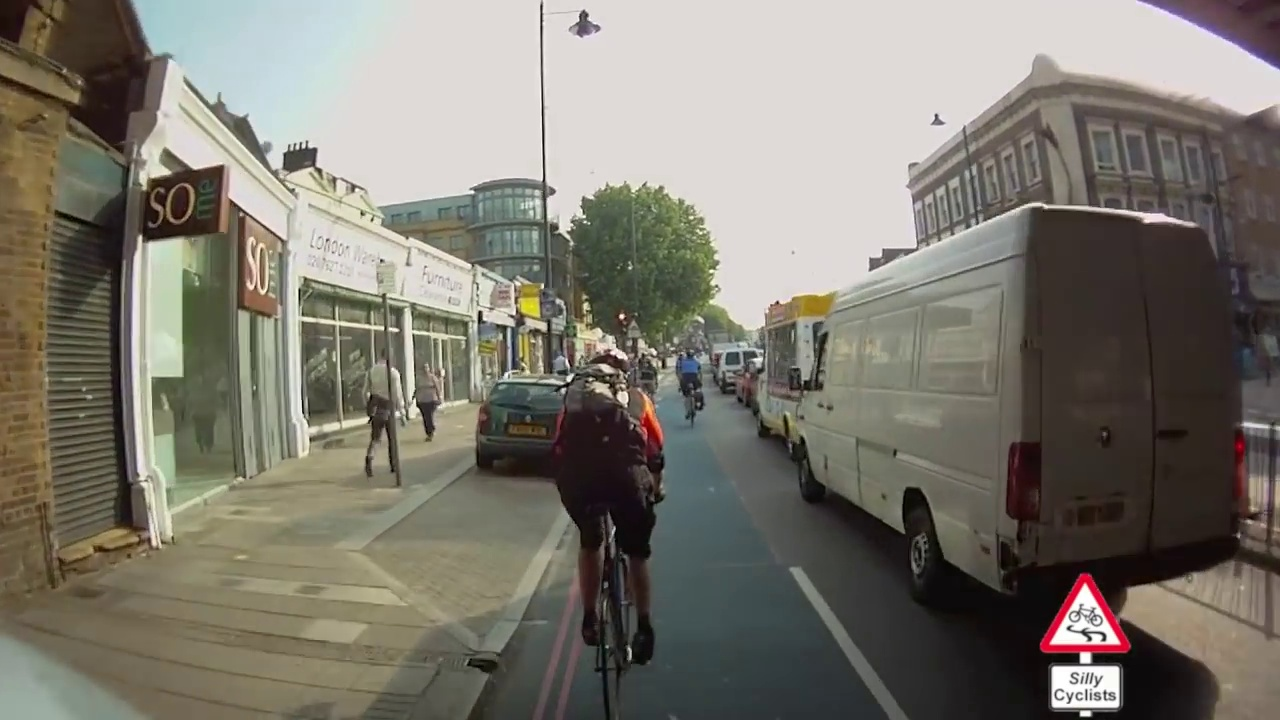cyclist_back: (550, 345, 665, 712), (674, 344, 708, 432)
